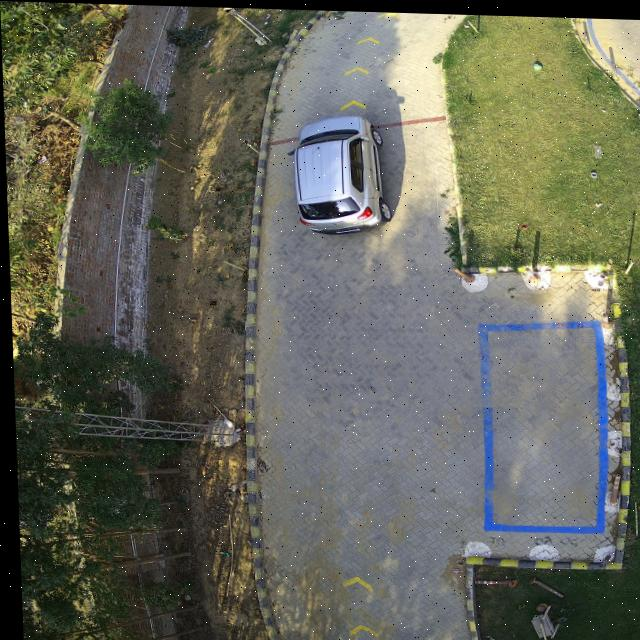car: (289, 113, 389, 232)
